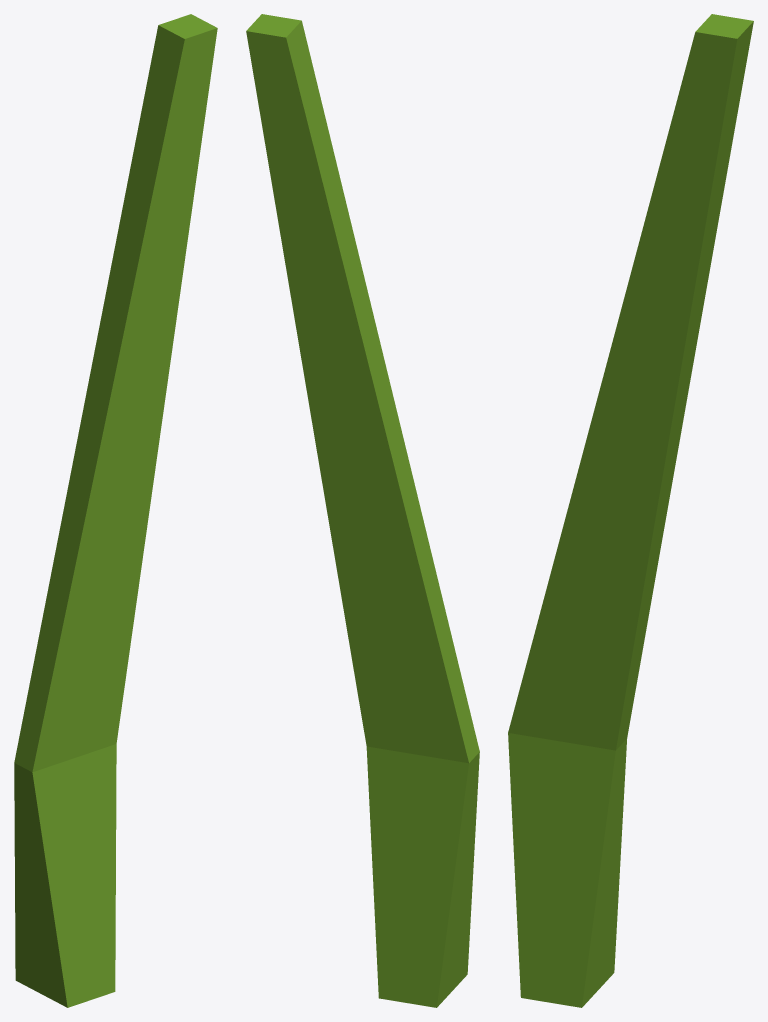
File: Natures2g5-green.fbx
The picture shows the model from 3 angles, left to right: view 1: azimuth 30°, elevation 25°; view 2: azimuth 150°, elevation 25°; view 3: azimuth 330°, elevation 25°; orthographic projection. The views are drawn at different scales.
Parts seen in each view (by area): view 1: g5-green; view 2: g5-green; view 3: g5-green.
Boxes of the visible parts, <box> form: g5-green: <box>14,14,217,1007</box>; g5-green: <box>246,14,479,1007</box>; g5-green: <box>508,14,753,1007</box>.
Bounding box in the file's own units: 41.05 × 177 × 16.4.
